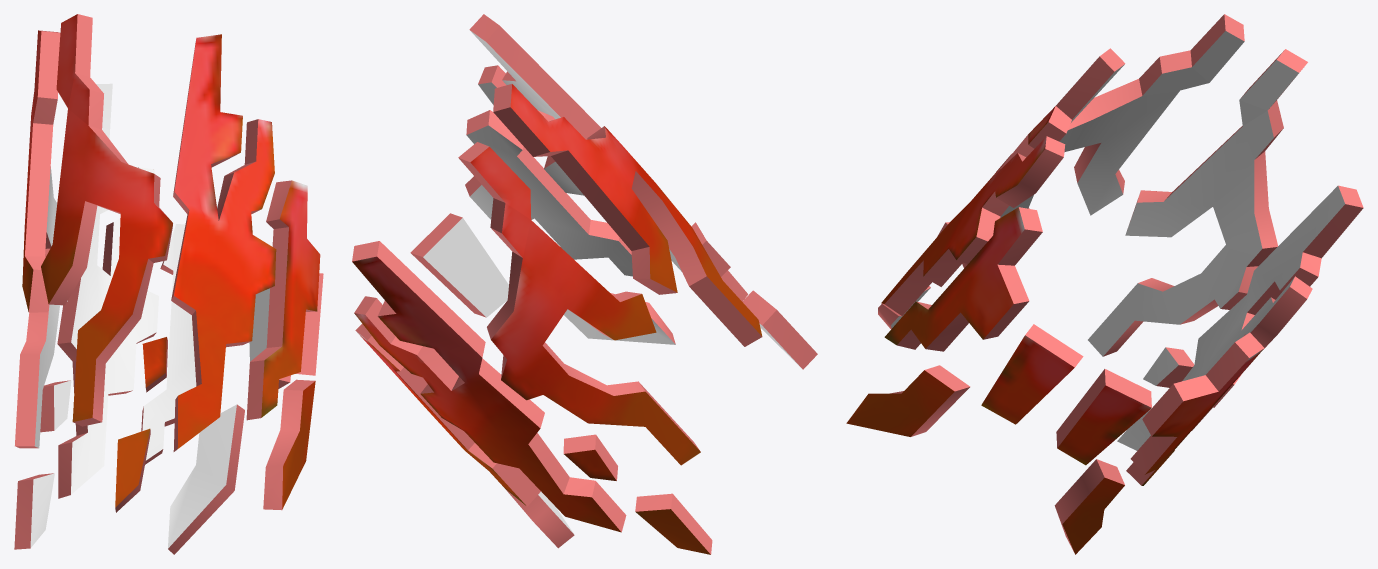
File: 1_Fashi_w_level_11.FBX
The picture shows the model from 3 angles, left to right: view 1: azimuth 30°, elevation 25°; view 2: azimuth 150°, elevation 25°; view 3: azimuth 270°, elevation 25°; orthographic projection. The views are drawn at different scales.
Parts seen in each view (by area): view 1: 1_Fashi_w_level_11; view 2: 1_Fashi_w_level_11; view 3: 1_Fashi_w_level_11.
Part boxes in pixels (x1=…): 1_Fashi_w_level_11: x1=14, y1=14, x2=323, y2=554; 1_Fashi_w_level_11: x1=352, y1=14, x2=817, y2=554; 1_Fashi_w_level_11: x1=846, y1=14, x2=1363, y2=554.
Bounding box in the file's own units: 34.55 × 56.33 × 49.92.
Materials: 1 (1 with a texture image).
